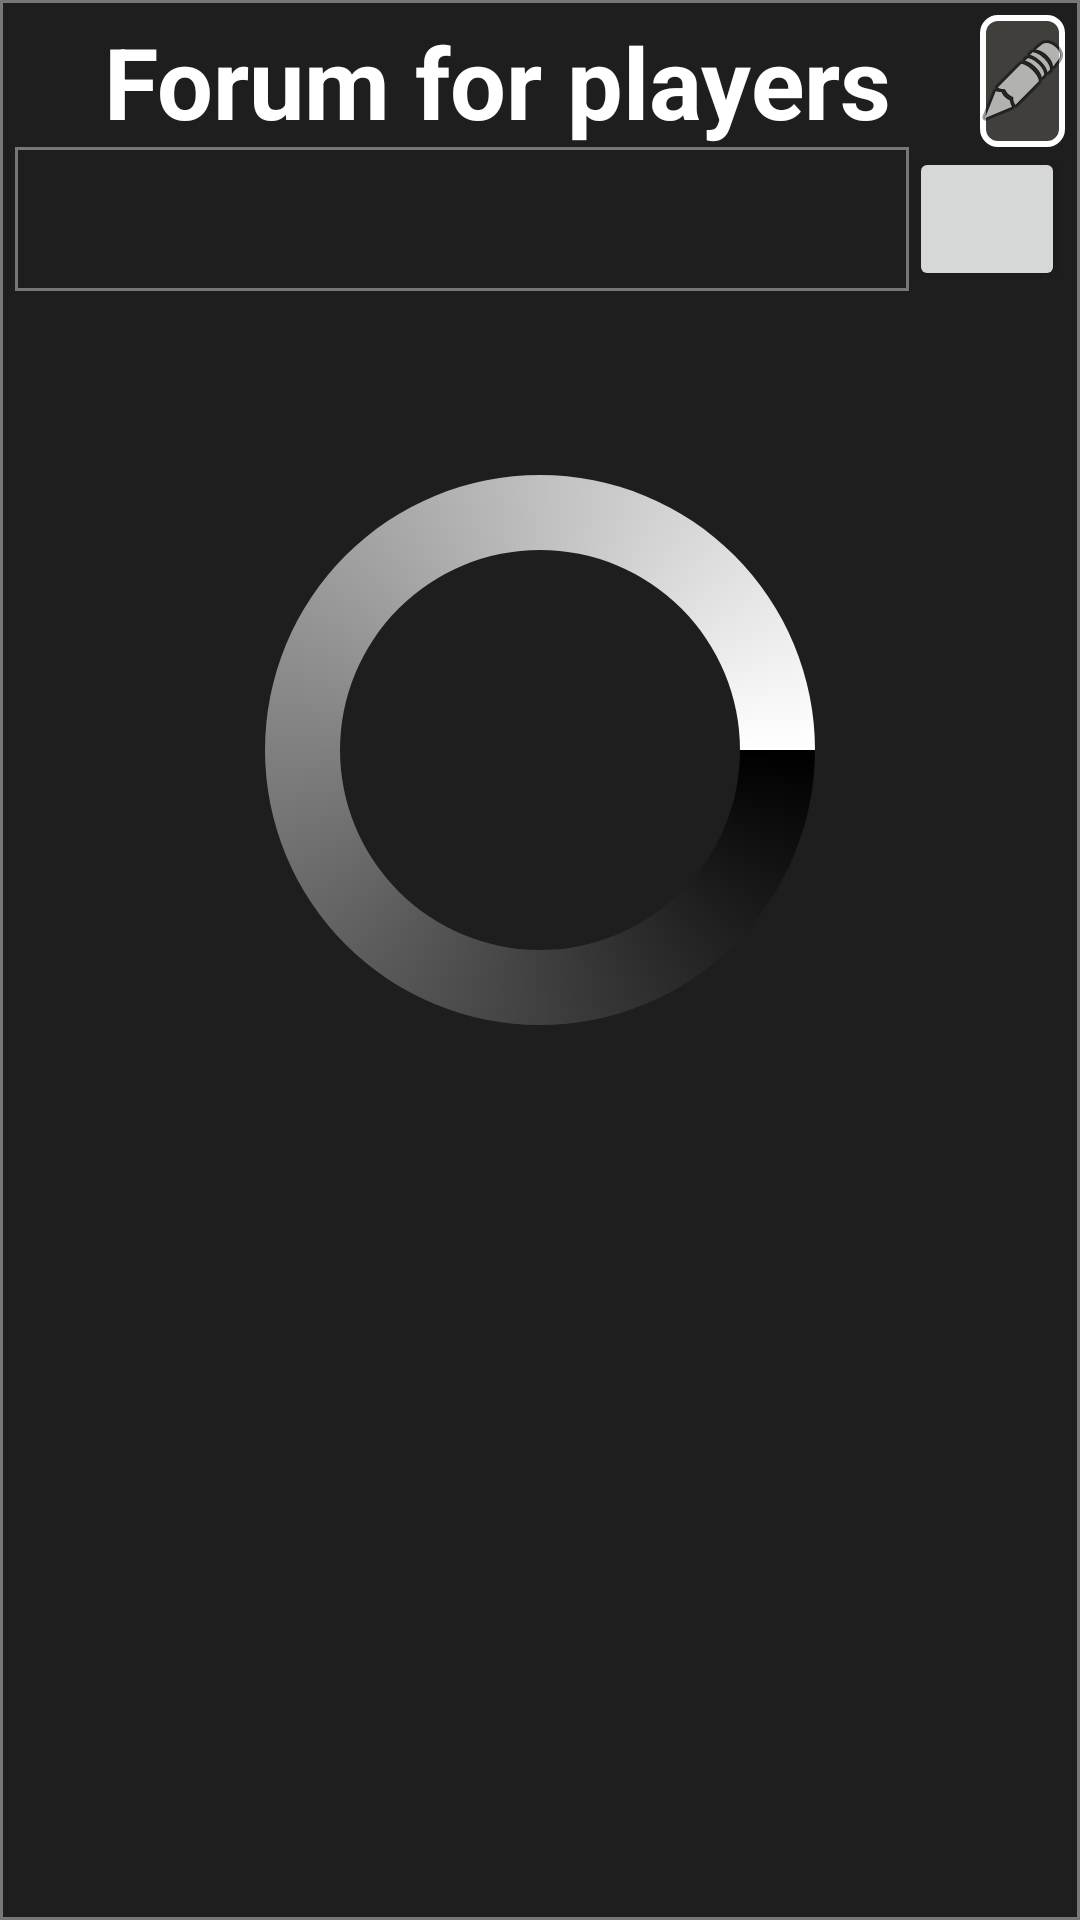

Icons on this 1080×1920 Android screen, each with the point to tap as point (x, y):
edit: point (1022, 81)
